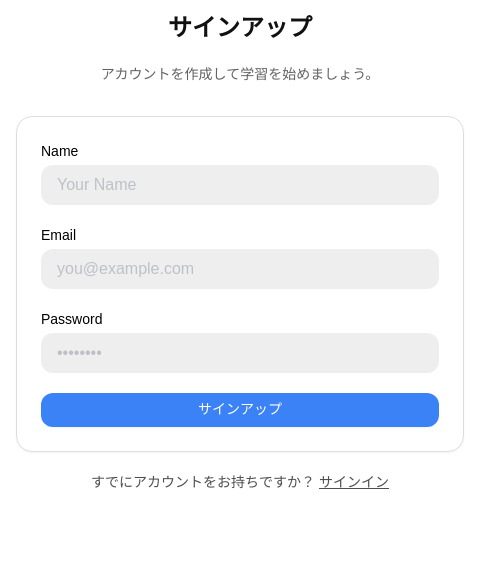
Test: SignUp Component › 失敗：message無し→デフォ文言
Type "Dave" into the field labelled "Name" at (240, 185), box left=41, top=165, right=439, bottom=205
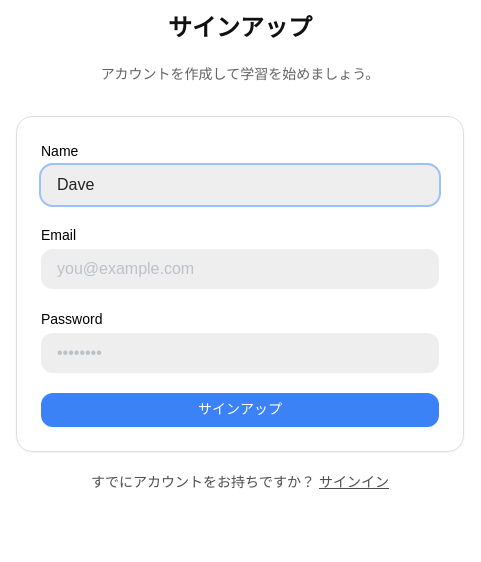
Type "dave@example.com" into the field labelled "Email" at (240, 269), box left=41, top=249, right=439, bottom=289
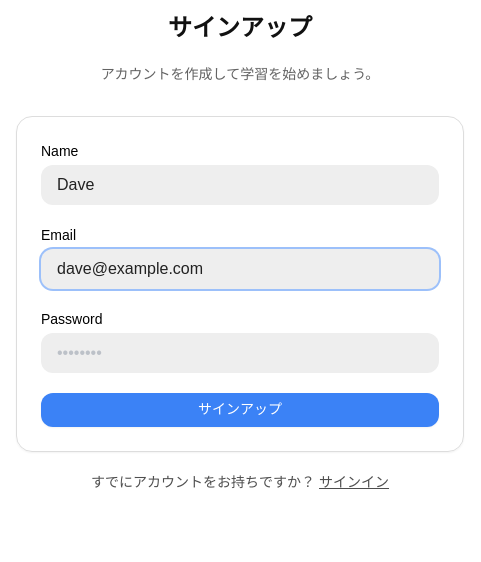
Type "passpass" into the password field labelled "Password" at (240, 353), box left=41, top=333, right=439, bottom=373
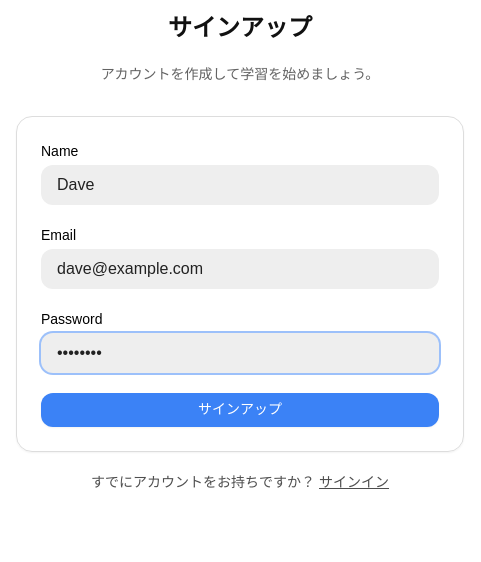
Click the button "サインアップ" at (240, 410), box left=41, top=393, right=439, bottom=426
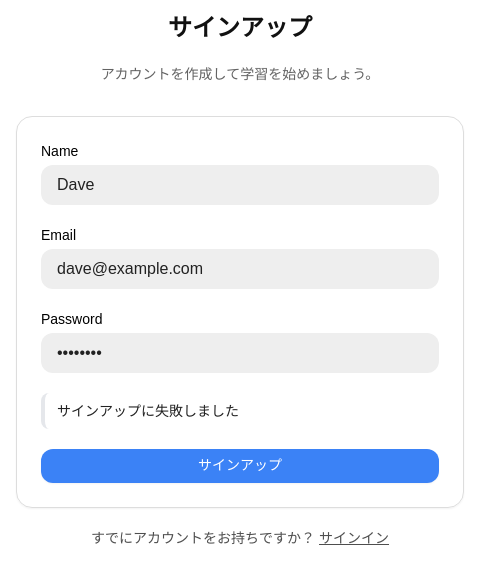
Result: the text "サインアップに失敗しました" is shown at left=41, top=393, right=439, bottom=429
